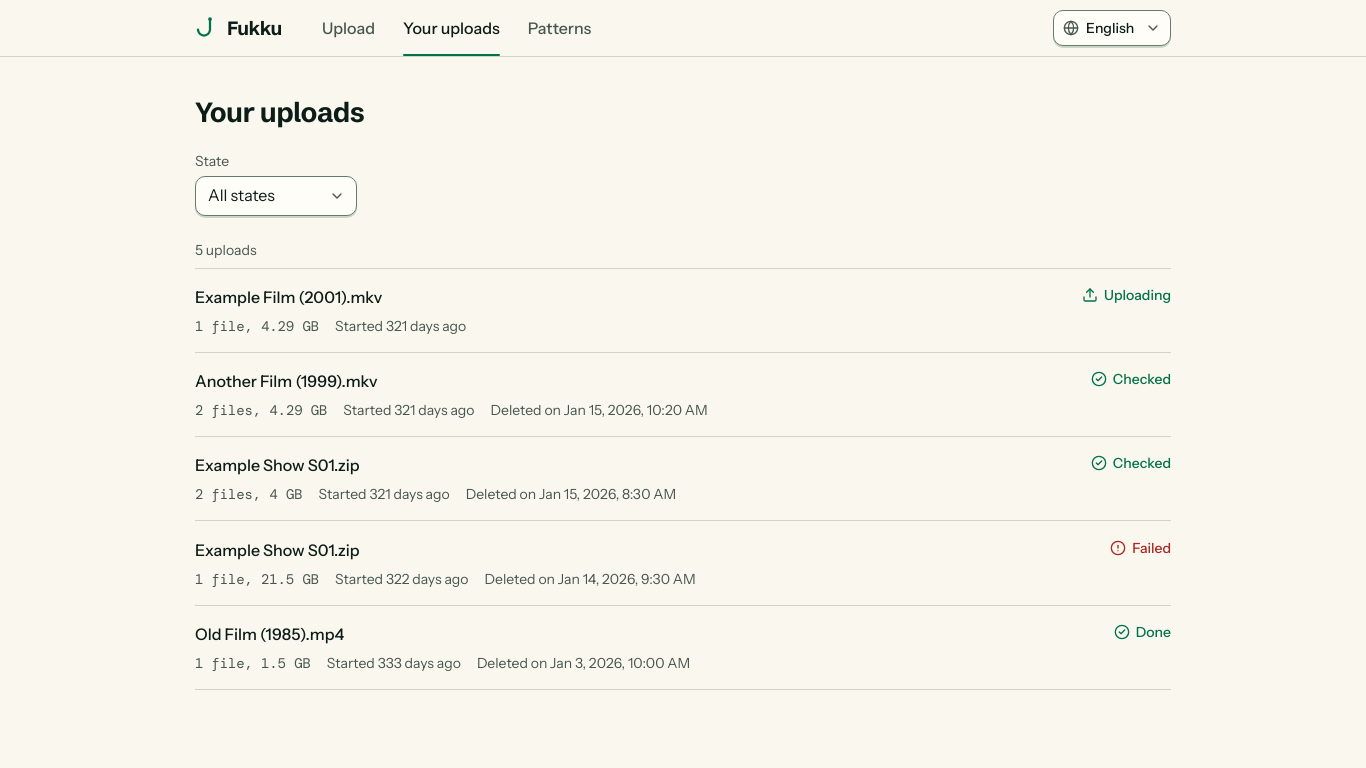
job list › filters by state
Select "Failed" in the dropdown labelled "State" at (276, 196), box [195, 176, 357, 216]
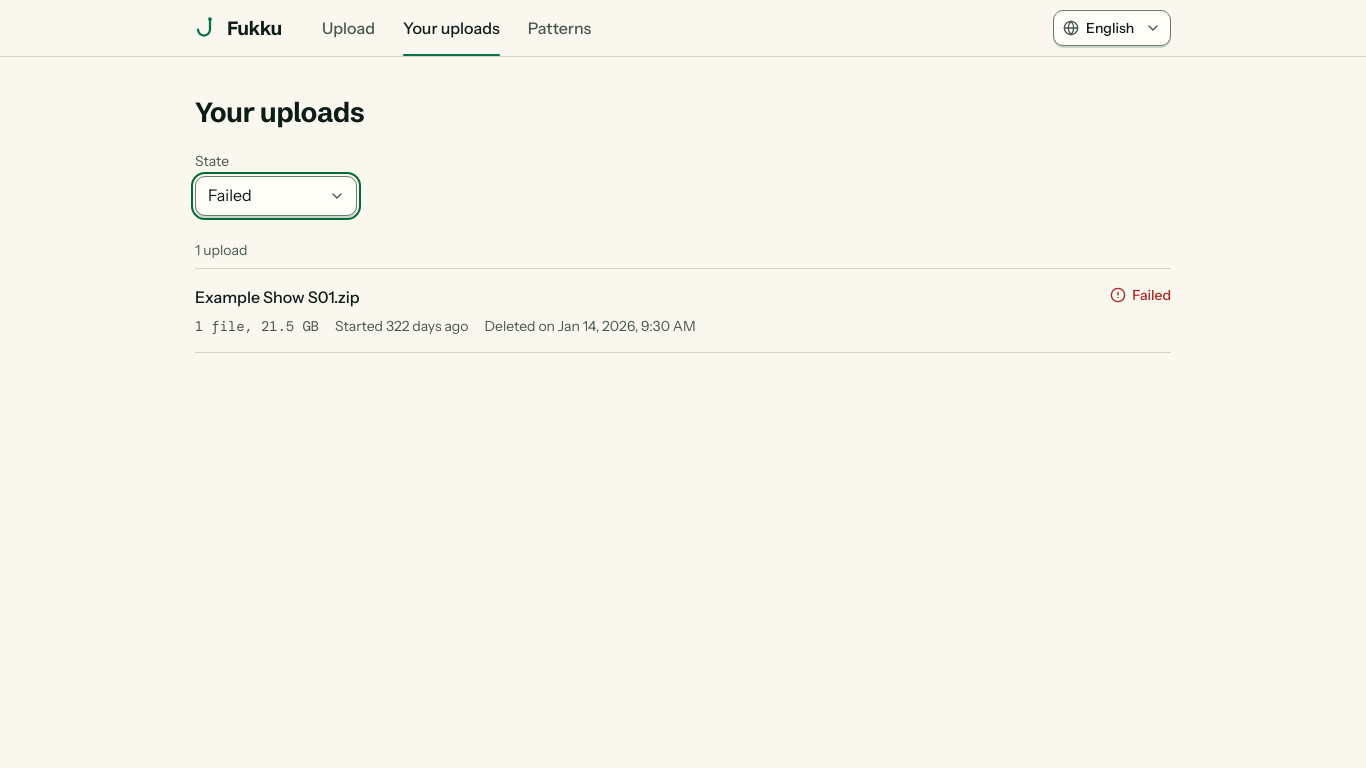
Expected: the link "Example Show S01.zip" is shown, [195, 287, 360, 307]
Result: the text "1 upload" is shown at [195, 241, 248, 259]
Result: the link "Another Film (1999).mkv" is gone
